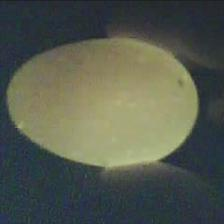infertile: (5, 36, 200, 168)
